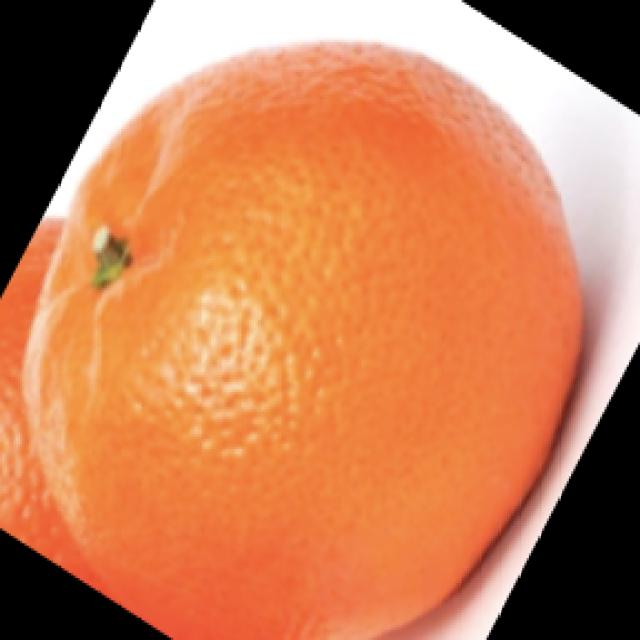matang: (29, 42, 583, 640), (0, 220, 172, 630)
